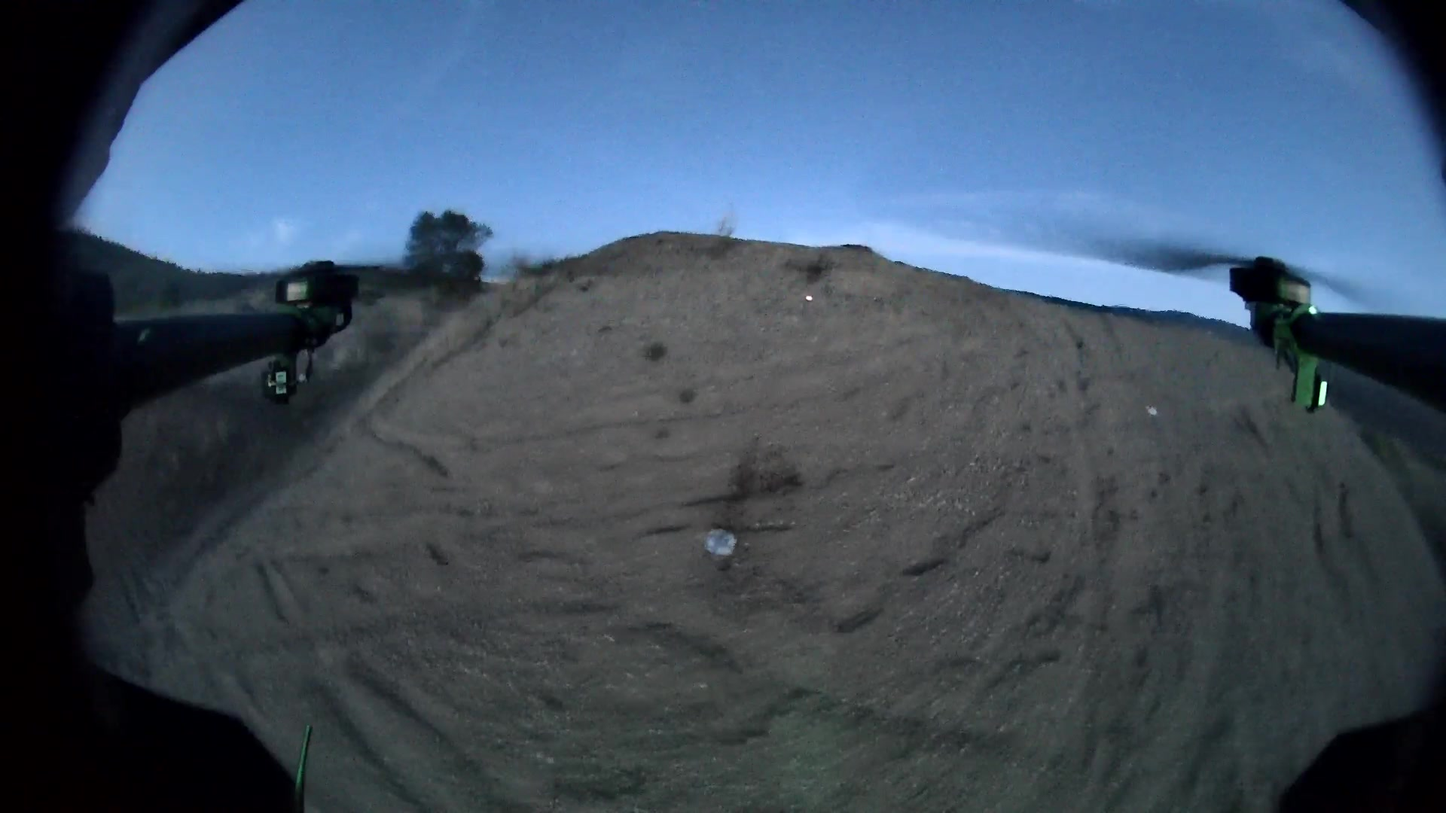Target: (702, 527, 738, 557)
